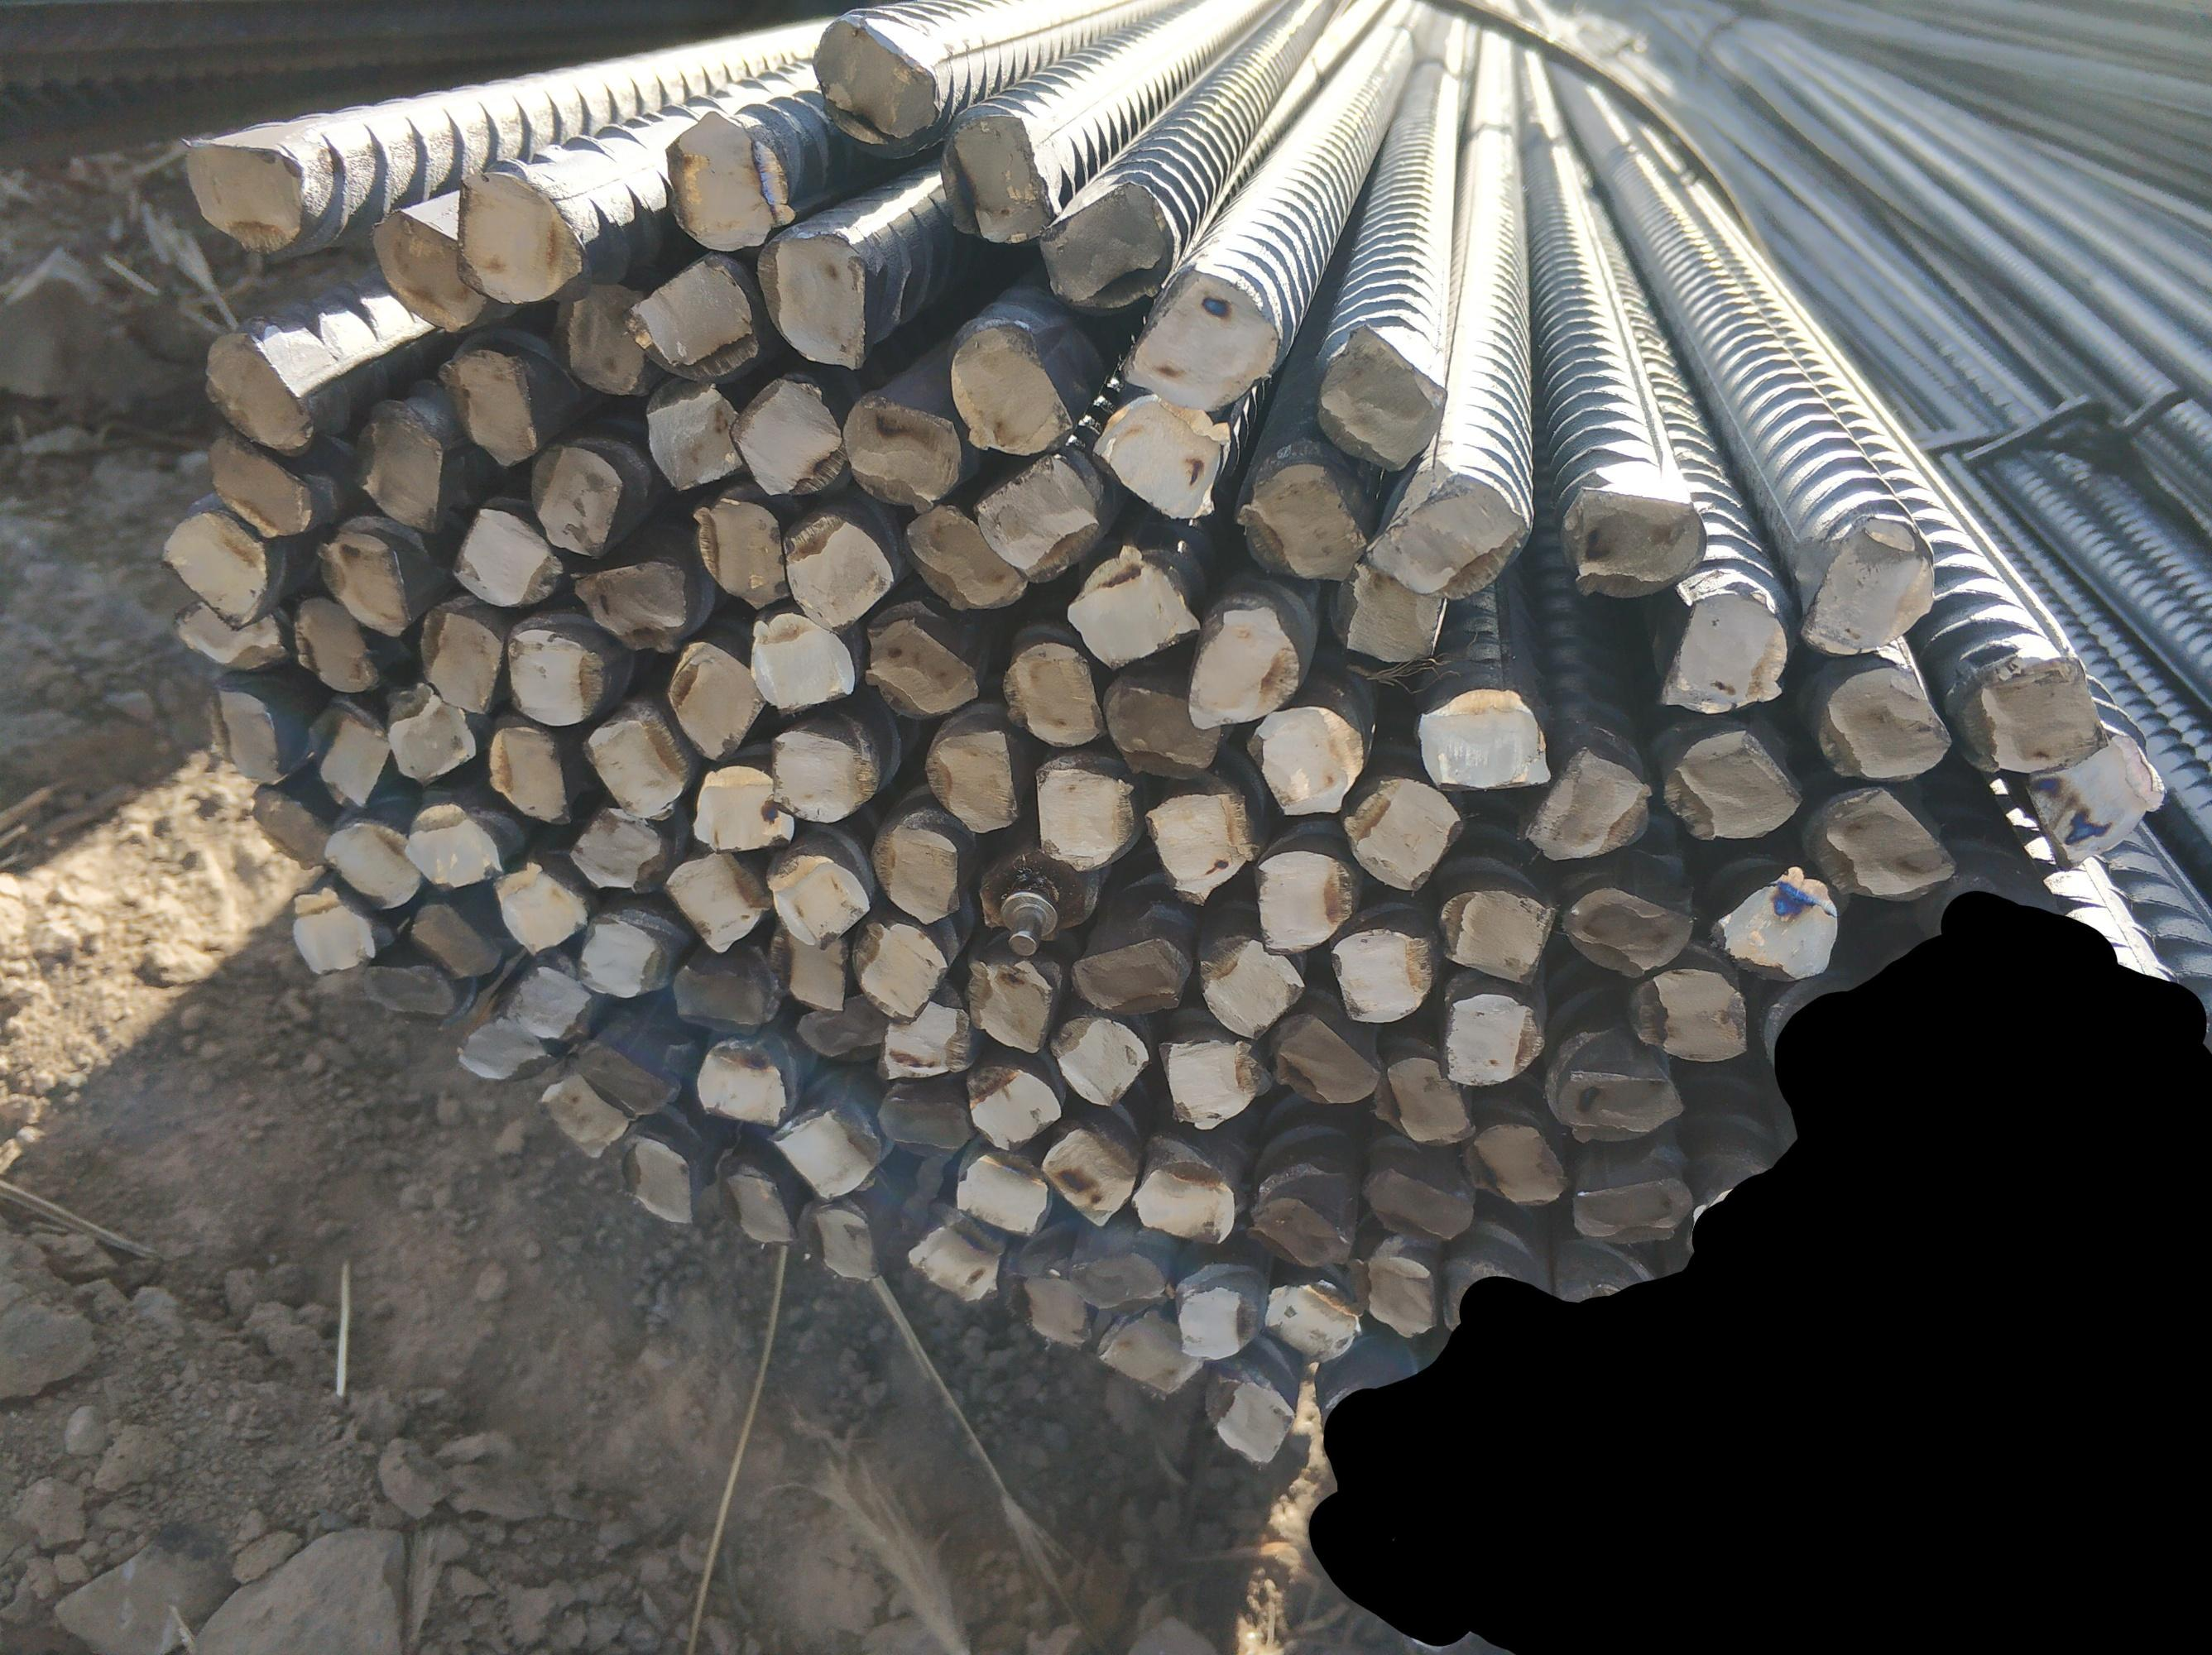bar: (1121, 268, 1282, 409), (1795, 509, 1941, 659), (1364, 471, 1529, 603), (2030, 715, 2167, 873), (806, 5, 942, 162), (657, 110, 799, 254), (1315, 322, 1449, 473), (1034, 179, 1180, 313), (452, 163, 586, 308), (1965, 645, 2109, 775), (1093, 393, 1234, 525), (1800, 781, 1951, 902), (945, 315, 1074, 457), (1555, 483, 1710, 600), (937, 101, 1060, 245), (754, 221, 869, 374), (627, 256, 761, 386), (1067, 539, 1201, 669), (1658, 586, 1791, 716), (973, 447, 1100, 584), (1816, 661, 1953, 786), (1545, 1026, 1687, 1146), (1659, 723, 1802, 840), (1234, 461, 1368, 584), (182, 127, 309, 256), (372, 200, 490, 337), (1713, 864, 1845, 986), (1519, 742, 1651, 862), (839, 384, 961, 511), (726, 372, 846, 501), (1185, 603, 1301, 732), (155, 504, 271, 631), (198, 329, 313, 457), (1340, 774, 1460, 894), (1244, 704, 1371, 817), (1140, 788, 1256, 909), (902, 502, 1030, 612), (1416, 688, 1550, 791), (445, 497, 563, 612), (784, 506, 895, 628), (438, 339, 542, 468), (860, 608, 980, 720), (1560, 883, 1692, 982), (520, 438, 624, 562), (553, 276, 655, 402), (198, 431, 315, 539), (1326, 560, 1446, 664), (1628, 960, 1748, 1064), (692, 495, 794, 617), (667, 638, 766, 763), (1190, 932, 1305, 1040), (575, 556, 693, 661), (349, 407, 445, 535), (1435, 885, 1559, 984), (997, 638, 1107, 749), (1032, 758, 1136, 874), (765, 725, 883, 827), (1102, 680, 1222, 781), (975, 847, 1100, 940), (375, 671, 476, 786), (645, 377, 744, 492), (763, 1100, 879, 1198), (582, 711, 688, 817), (747, 612, 857, 715), (671, 937, 782, 1038), (313, 522, 410, 636), (924, 723, 1022, 838), (1265, 1012, 1383, 1106), (1253, 847, 1354, 956), (502, 621, 608, 723), (662, 847, 765, 953), (1036, 1121, 1136, 1229), (765, 847, 869, 949), (846, 916, 947, 1022), (1347, 1231, 1446, 1339), (1328, 927, 1435, 1024), (191, 678, 285, 789), (1437, 989, 1543, 1087), (1159, 1036, 1267, 1132), (1569, 1166, 1694, 1248), (283, 591, 377, 699), (1091, 1306, 1202, 1396), (415, 600, 499, 720), (306, 690, 389, 810), (323, 815, 427, 911), (867, 819, 963, 923), (1131, 1154, 1239, 1246), (874, 980, 975, 1078), (961, 954, 1062, 1052), (1044, 1015, 1150, 1107), (686, 763, 794, 854), (1262, 1273, 1364, 1366), (1461, 1120, 1569, 1208), (1069, 934, 1185, 1015), (492, 857, 587, 956), (565, 1036, 678, 1118), (1204, 1370, 1298, 1467), (400, 796, 499, 888), (1359, 1166, 1475, 1245), (1380, 1052, 1475, 1146), (167, 596, 287, 671), (961, 1059, 1058, 1149), (956, 1151, 1055, 1240), (1244, 1193, 1359, 1269), (488, 723, 573, 824), (695, 1036, 787, 1128), (287, 887, 379, 977), (539, 1071, 631, 1160), (568, 807, 664, 892), (765, 923, 850, 1017), (905, 1222, 999, 1306), (1004, 1264, 1095, 1347), (1062, 1243, 1168, 1313), (408, 895, 495, 979), (791, 991, 886, 1066), (506, 963, 593, 1045), (1171, 1281, 1258, 1363), (250, 781, 330, 867), (719, 1154, 796, 1245), (577, 916, 659, 1000), (619, 1135, 695, 1224), (454, 1014, 546, 1085), (365, 954, 459, 1022), (874, 1090, 971, 1154), (799, 1200, 878, 1279)
